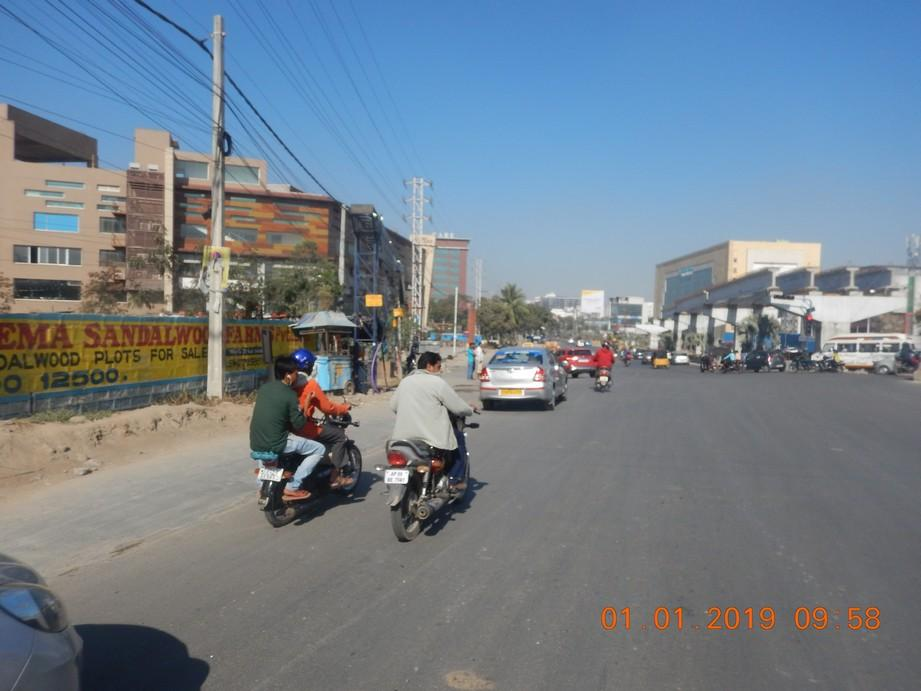plate: (256, 463, 286, 484), (383, 469, 411, 486)
